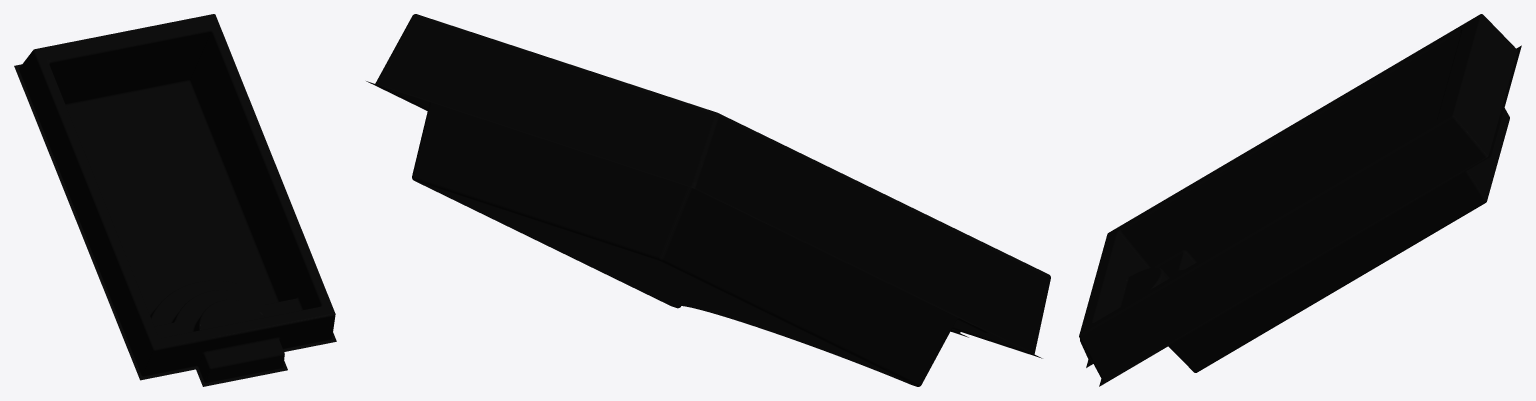
Rendered from Canyon Lake.glb.
3 renders of one model, left to right at view 1: azimuth 30°, elevation 25°; view 2: azimuth 150°, elevation 25°; view 3: azimuth 270°, elevation 25°, orthographic. The views are drawn at different scales.
Parts seen in each view (by area): view 1: node_id4; view 2: node_id4; view 3: node_id4.
Part boxes in pixels (box(x1,y1,x2,y2)): node_id4: box(14, 14, 336, 386); node_id4: box(366, 14, 1050, 386); node_id4: box(1079, 14, 1521, 386).
Size of the model in its own units: 0.5858 by 0.6167 by 0.8311.
Materials: 1 (1 with a texture image).
